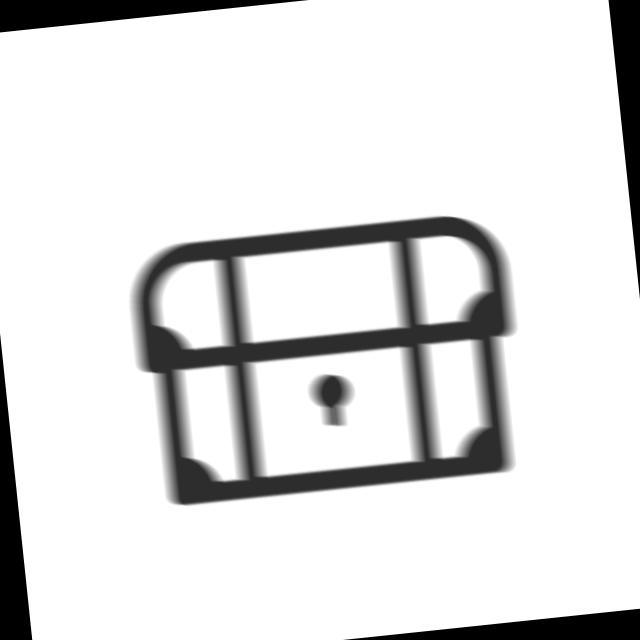treasure_box: (116, 201, 541, 520)
